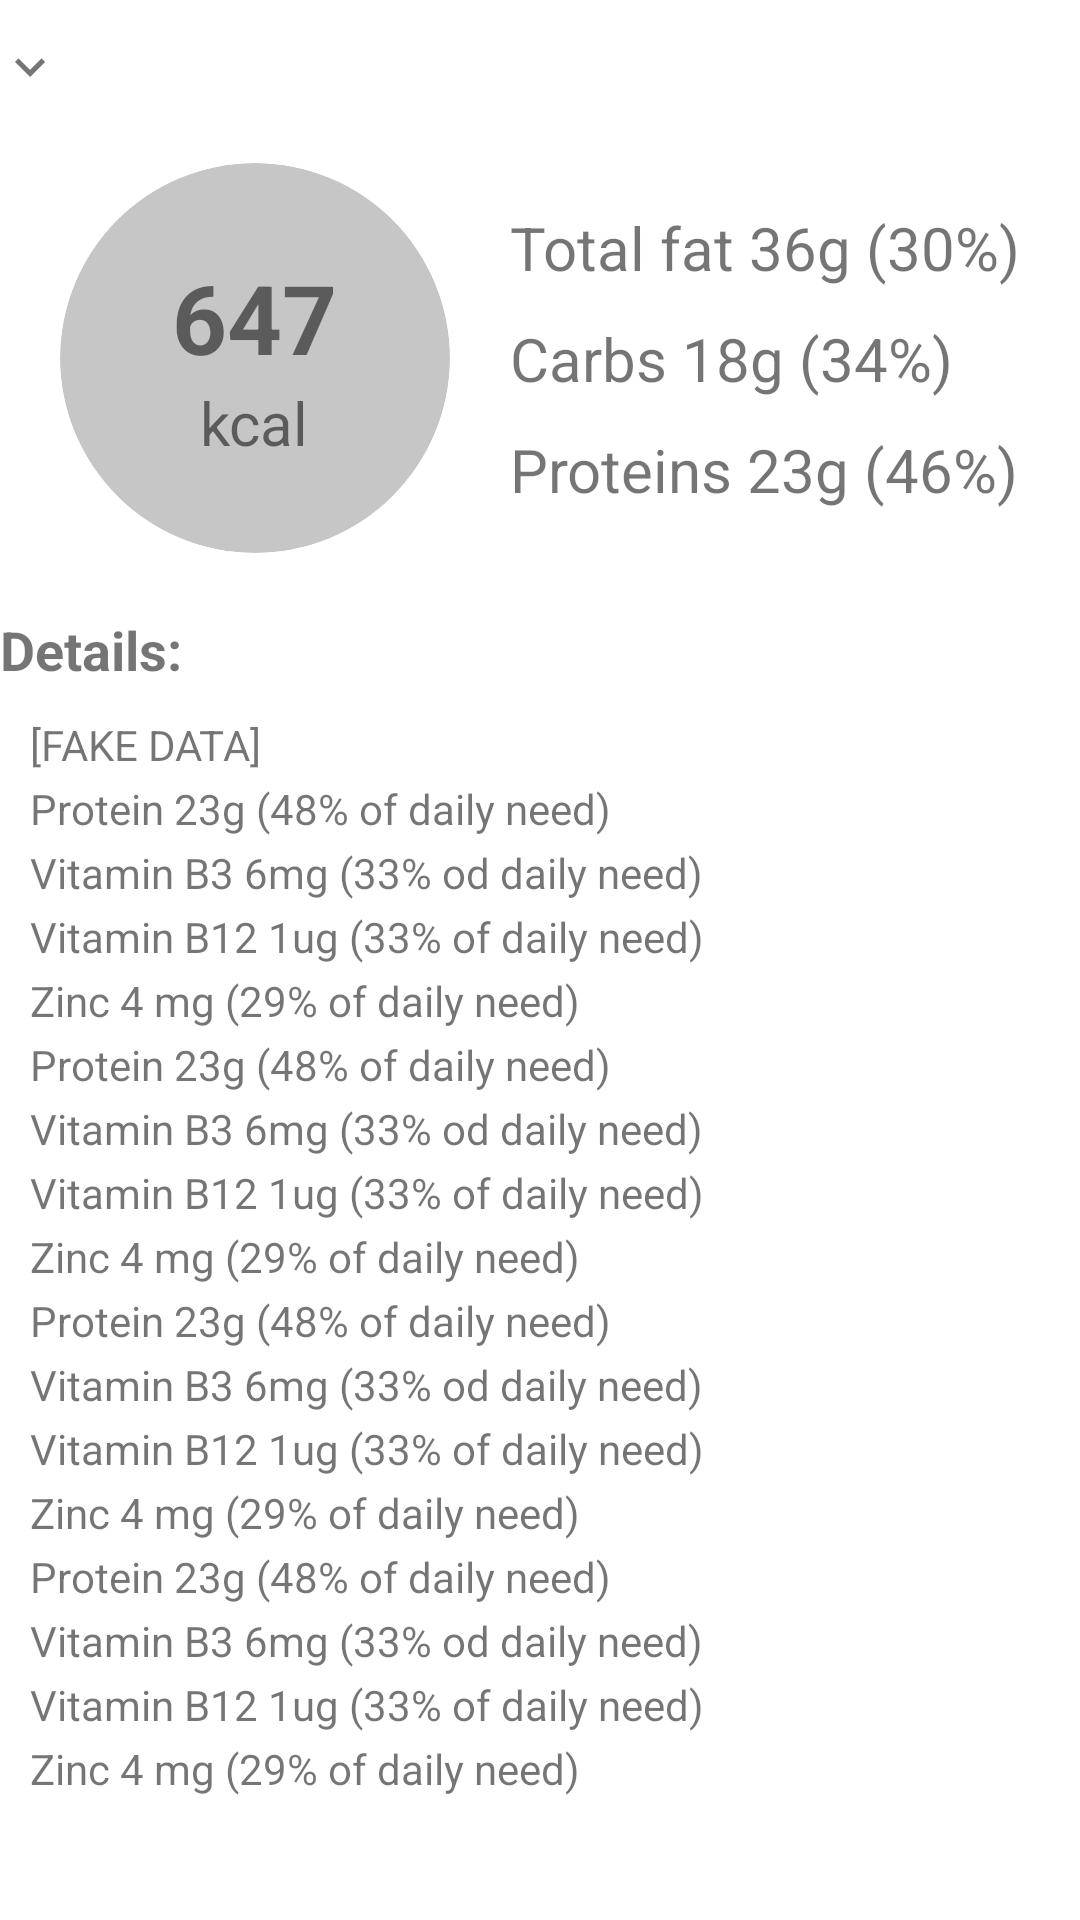

Icons on this 1080x1920 Android screen, each with the point to tap as (x=x, y=y):
keyboard arrow down: (x=30, y=67)
